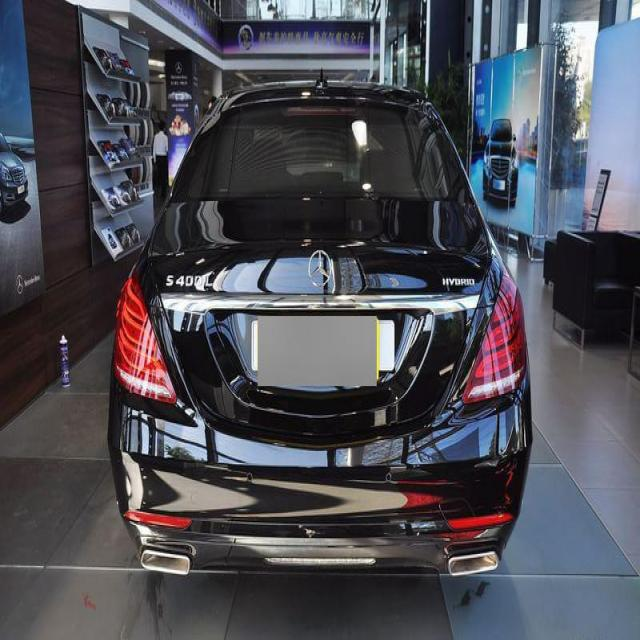back_glass: (168, 96, 474, 204)
back_left_side_light: (112, 270, 179, 407)
back_right_side_light: (460, 267, 530, 409)
rear_bumper: (107, 387, 533, 582)
